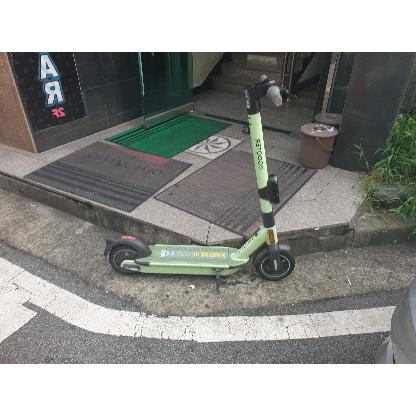bike: (103, 73, 297, 290)
car: (375, 211, 416, 364), (375, 260, 416, 364)
